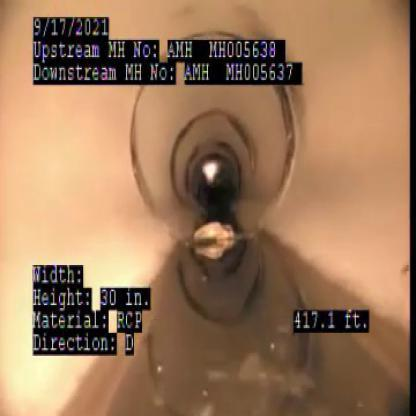Debris: (187, 210, 246, 258)
